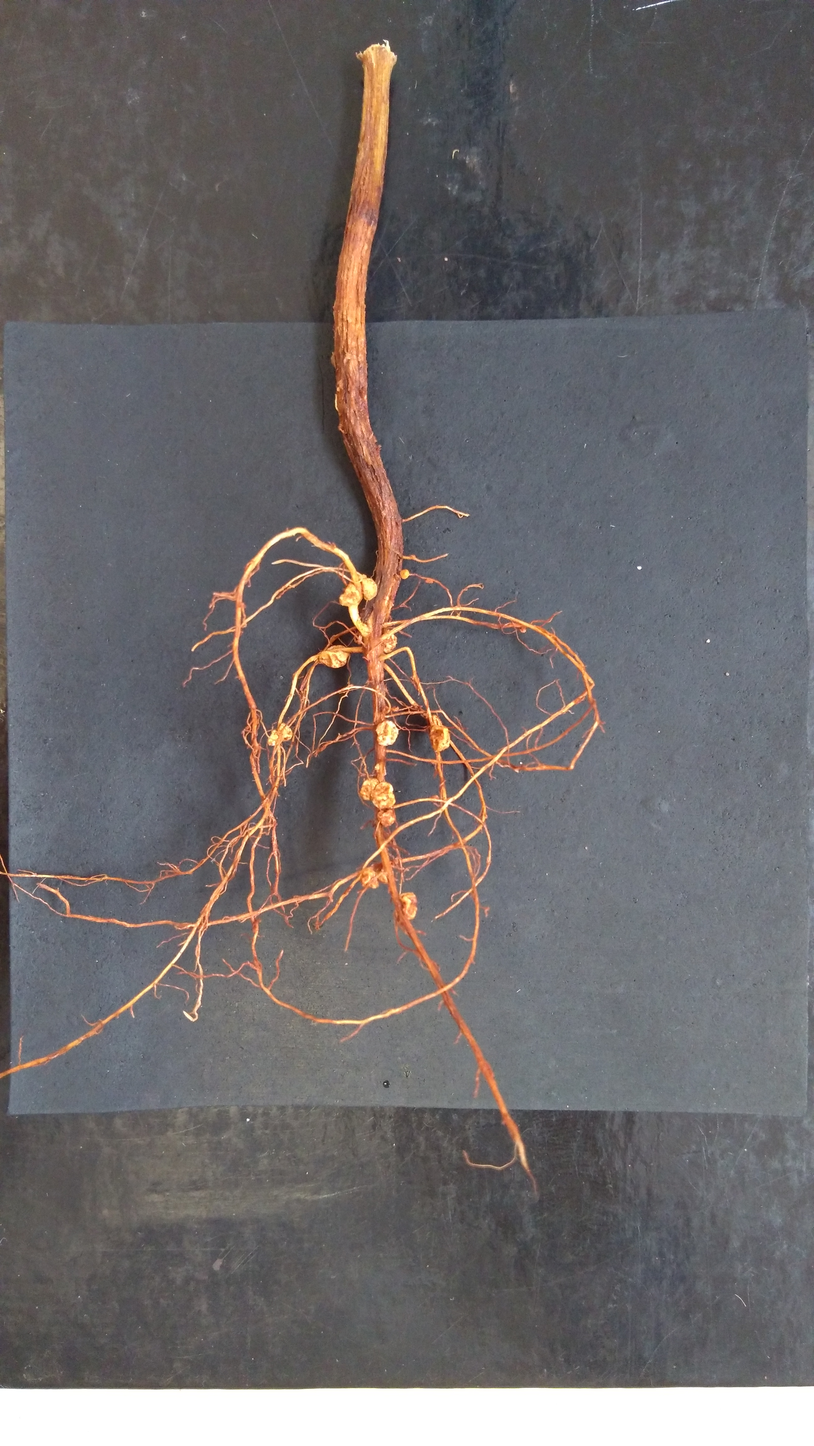nodule: (317, 644, 349, 669), (371, 780, 397, 810), (397, 890, 420, 922), (374, 720, 400, 746), (429, 724, 451, 752), (337, 582, 361, 606), (359, 776, 379, 802), (360, 576, 379, 601), (376, 809, 397, 827), (382, 632, 398, 655), (277, 721, 293, 743), (360, 866, 376, 886), (426, 714, 445, 729), (267, 728, 279, 746), (368, 877, 380, 889), (399, 568, 410, 581), (378, 872, 389, 884)
